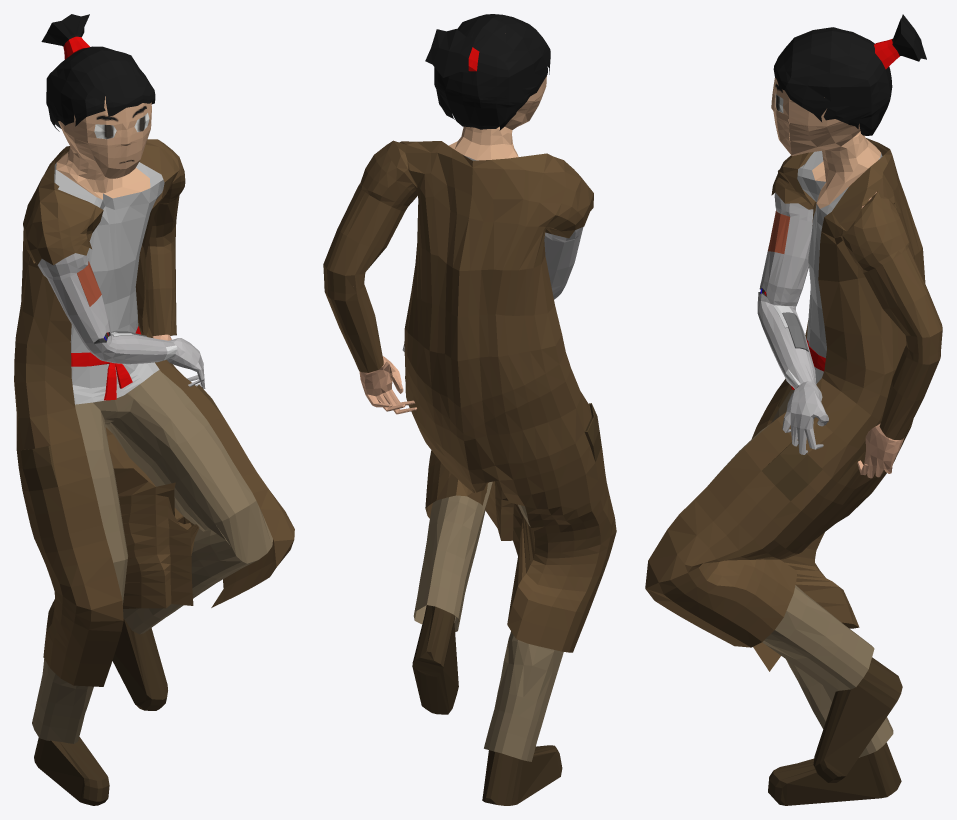
File: One_RB_000017.obj
3 renders of one model, left to right at view 1: azimuth 30°, elevation 25°; view 2: azimuth 150°, elevation 25°; view 3: azimuth 270°, elevation 25°, orthographic. The views are drawn at different scales.
Visible parts, largest first — view 1: Hair_Cube.004; view 2: Hair_Cube.004; view 3: Hair_Cube.004.
Part boxes in pixels (bbox=[...]): Hair_Cube.004: bbox=[14, 14, 294, 805]; Hair_Cube.004: bbox=[323, 14, 616, 805]; Hair_Cube.004: bbox=[645, 14, 942, 805].
Size of the model in its own units: 1.09 by 3.77 by 1.27.
